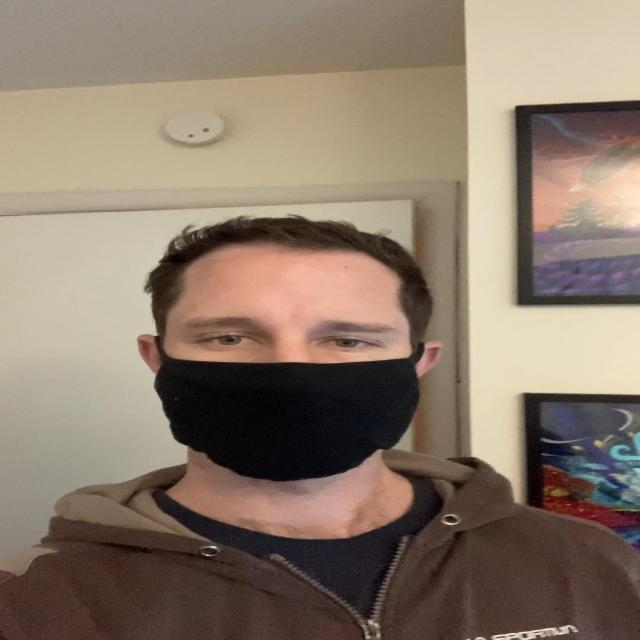no-helmet: (136, 218, 432, 482)
